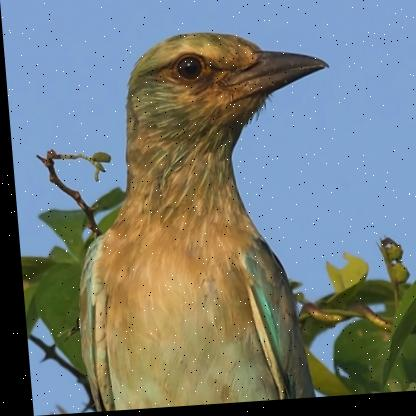Burung: (56, 26, 347, 412)
